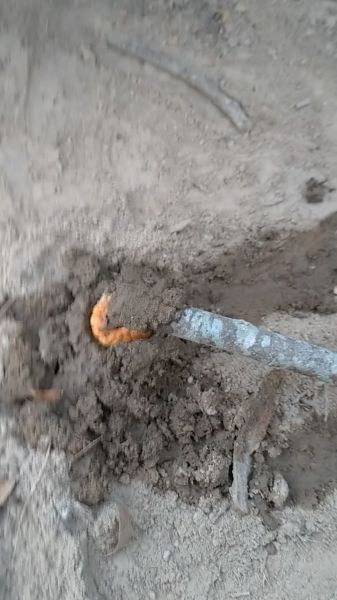eggs: (90, 286, 157, 350)
